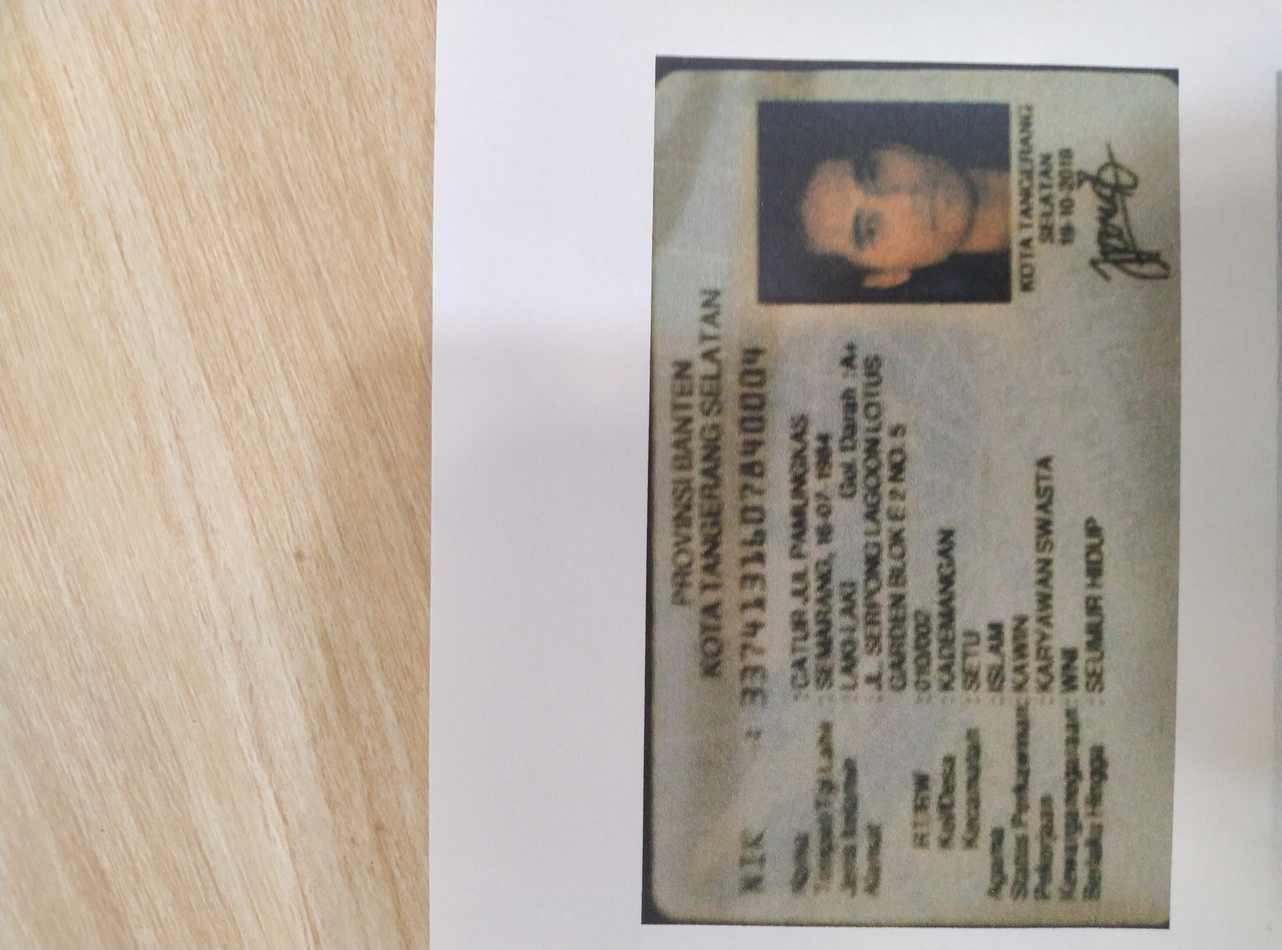ID-card: (34, 479, 1180, 865)
